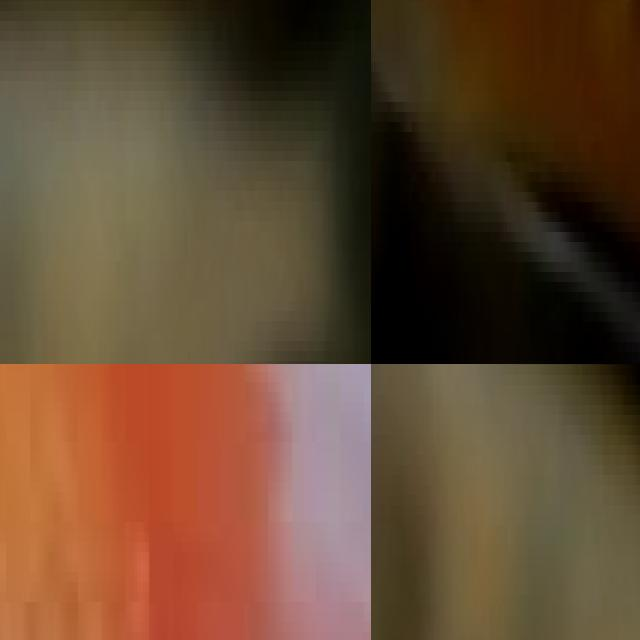fish: (0, 0, 371, 364), (371, 364, 640, 640)
